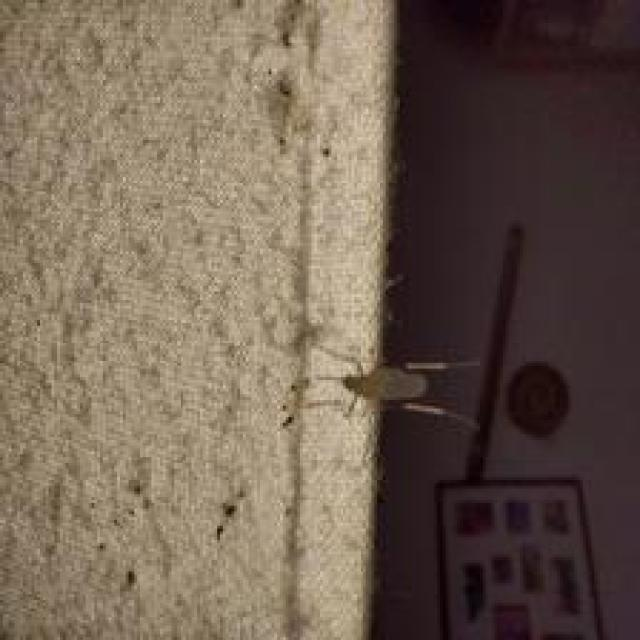Culex: (286, 340, 483, 434)
